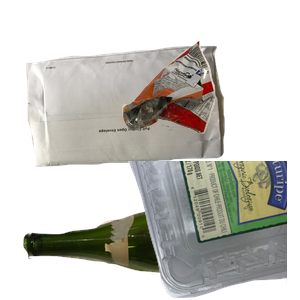glass: (21, 201, 261, 300)
paper: (24, 43, 242, 202)
plastic: (60, 161, 300, 300)
trash: (120, 38, 300, 164)
